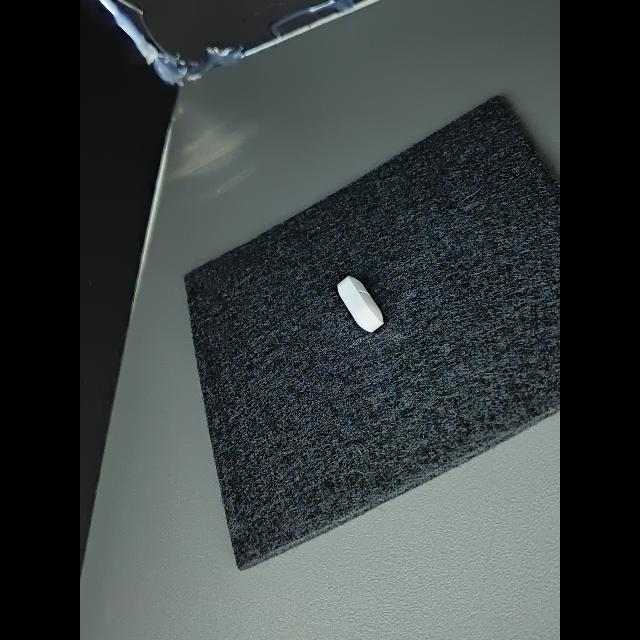Intact Pill: (337, 276, 384, 333)
